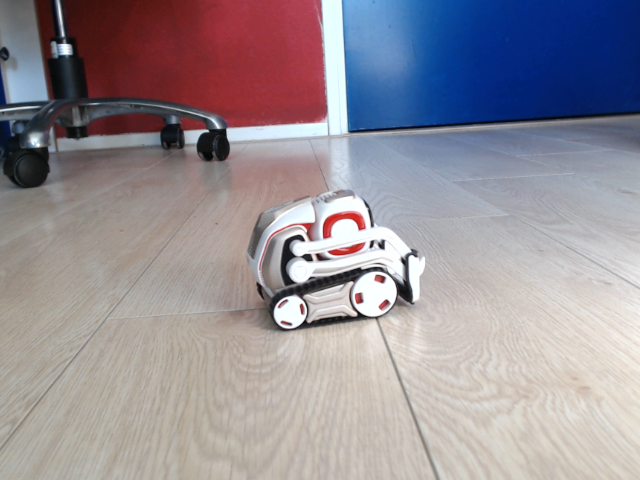cozmo: (244, 189, 428, 334)
